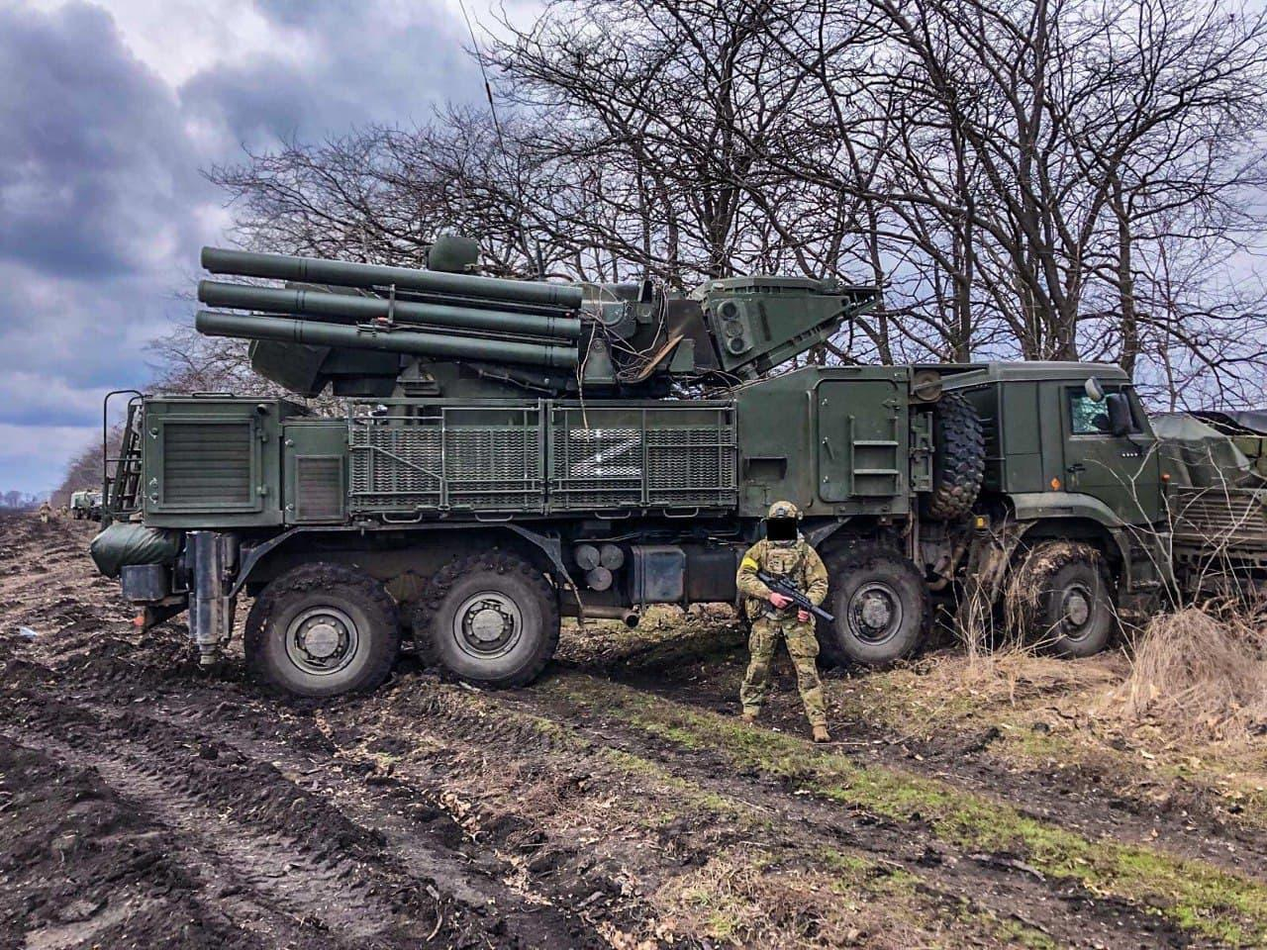person: (733, 493, 843, 747)
truck: (94, 210, 1160, 691)
